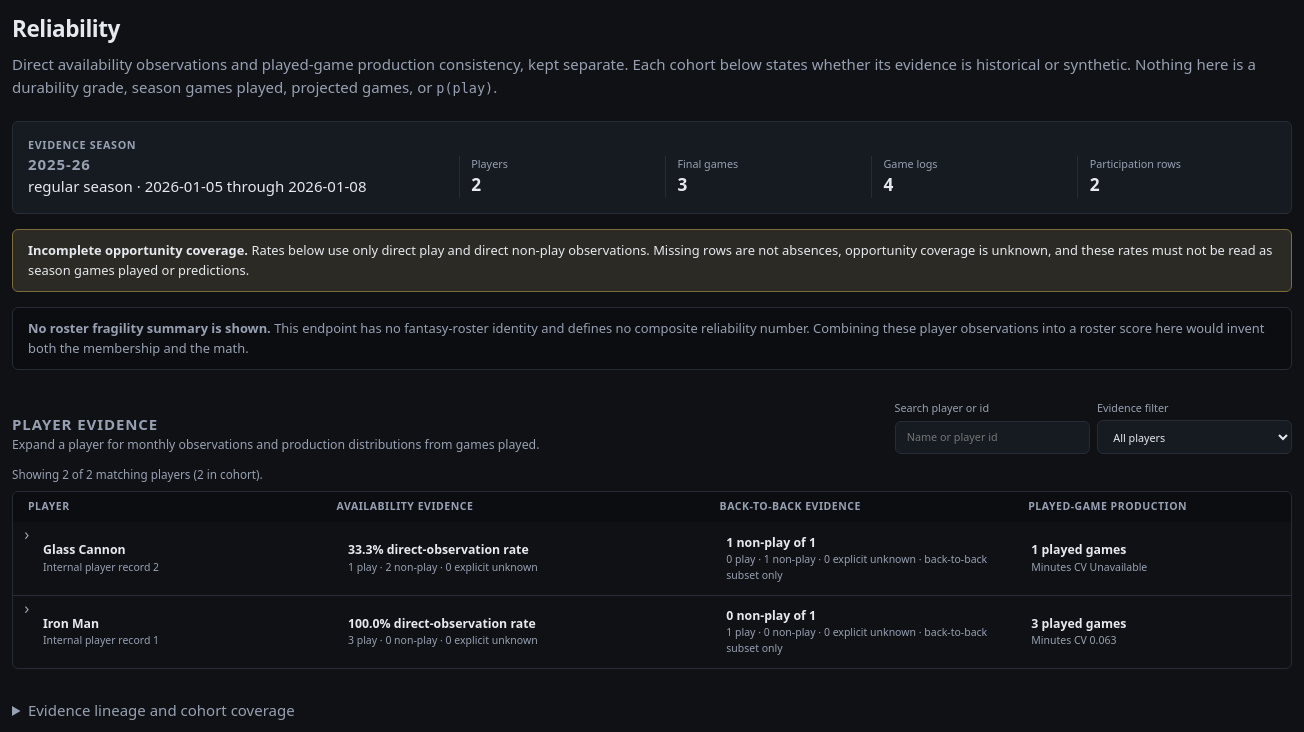
ReliabilityPage recorded contract › searches and filters client-side without mounting a wall of expanded cards
The image size is (1304, 732).
expect the text "Iron Man" is shown: met, box [43,615,99,632]
Type "glass" into the search field labelled "Search player or id" at x=992, y=438, box [894,421,1090,454]
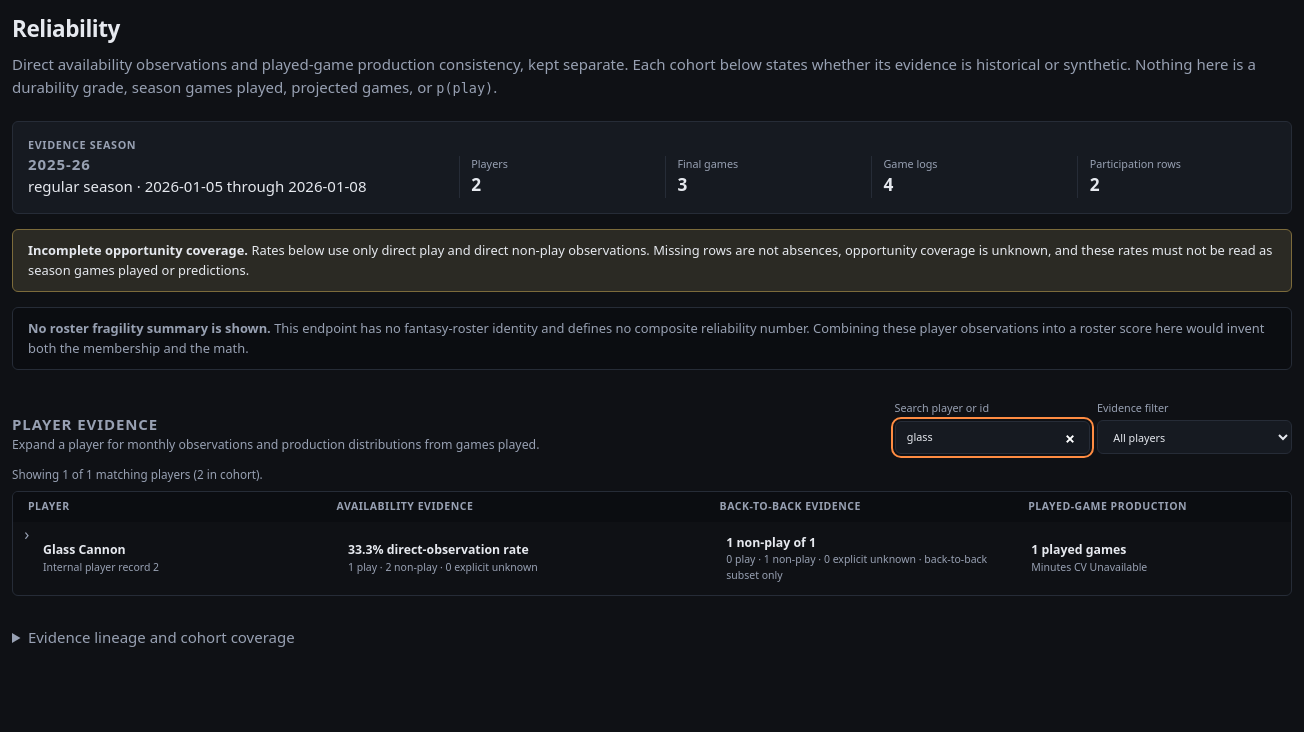
expect the text "Glass Cannon" is shown: met, box [43,542,126,558]
expect the heading "Iron Man" is gone: met
Clear the search field labelled "Search player or id" at x=992, y=438, box [894,421,1090,454]
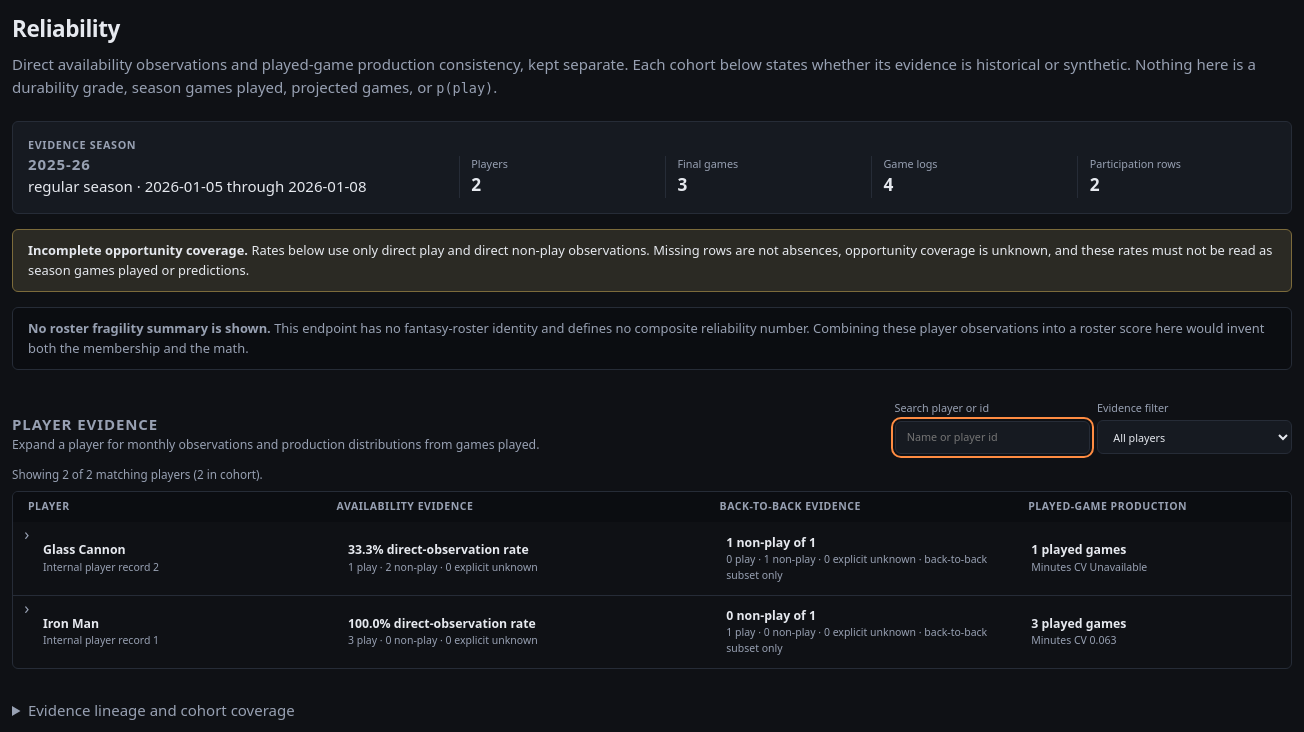
Select "Has direct non-play evidence" in the dropdown labelled "Evidence filter" at x=1194, y=437, box [1097,420,1292,454]
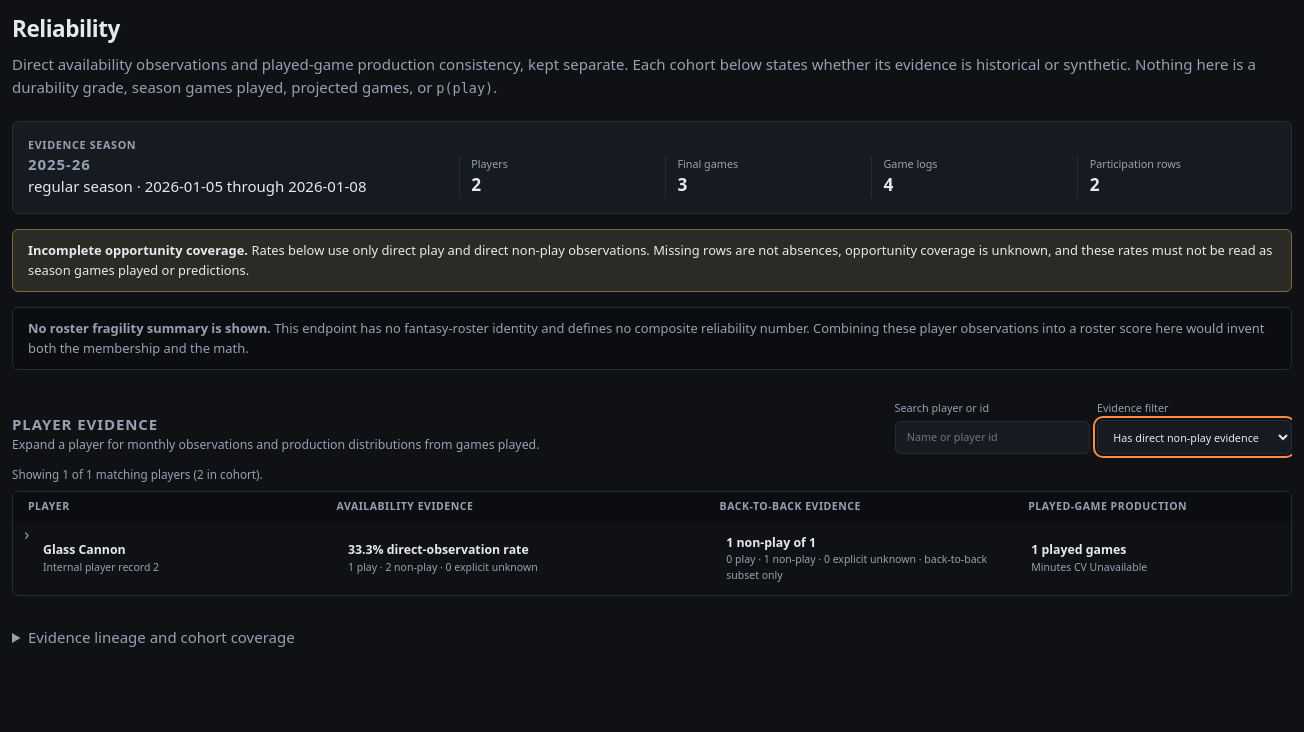
expect the text "Glass Cannon" is shown: met, box [43,542,126,558]
expect the heading "Iron Man" is gone: met
